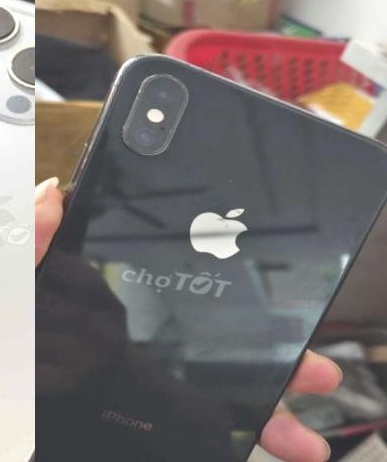scratch: (114, 71, 148, 150), (214, 198, 250, 236), (159, 123, 181, 143), (220, 170, 244, 188)
